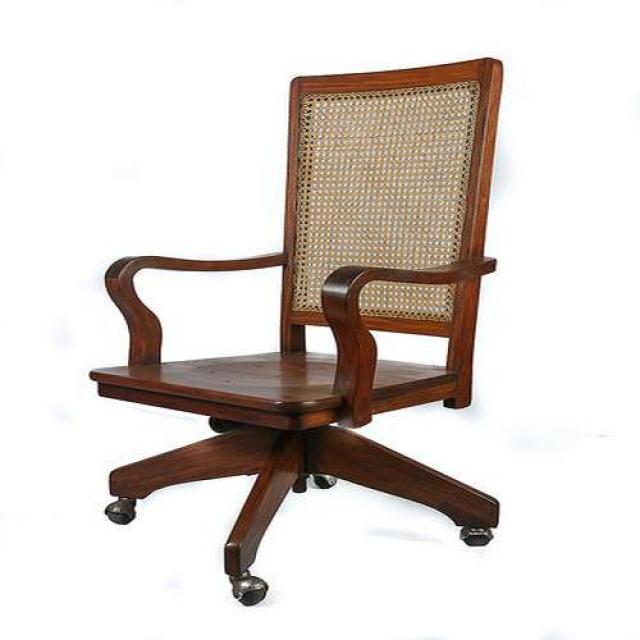swivelchair: (90, 60, 504, 608)
